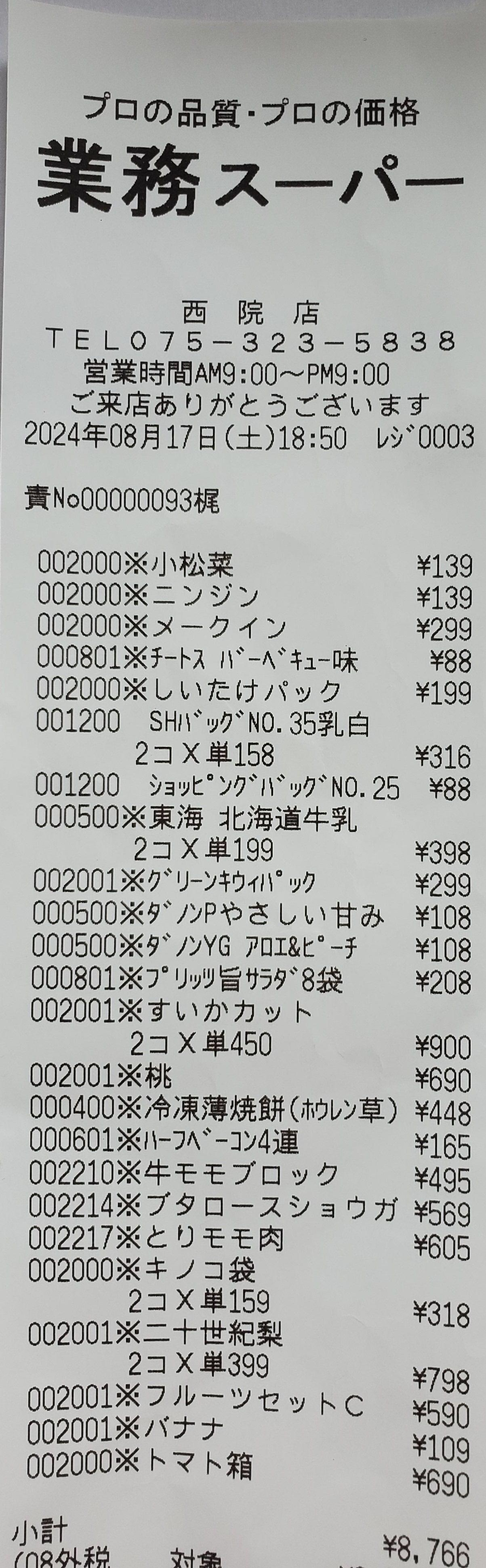TEL: (130, 326, 467, 361)
date: (20, 413, 217, 459)
total: (396, 1522, 473, 1568)
